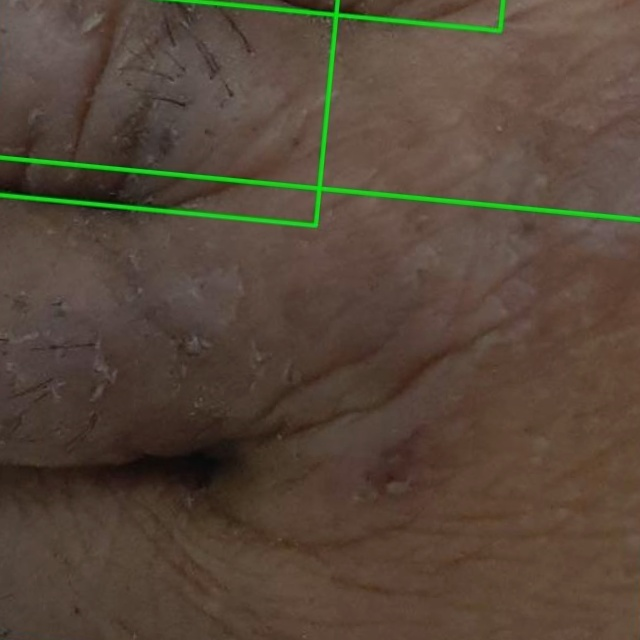Eczema: (0, 157, 639, 639), (0, 0, 337, 225)
